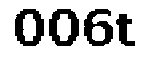0: (46, 6, 81, 52), (12, 6, 46, 51)
6: (82, 6, 115, 50)
t: (114, 13, 140, 50)
